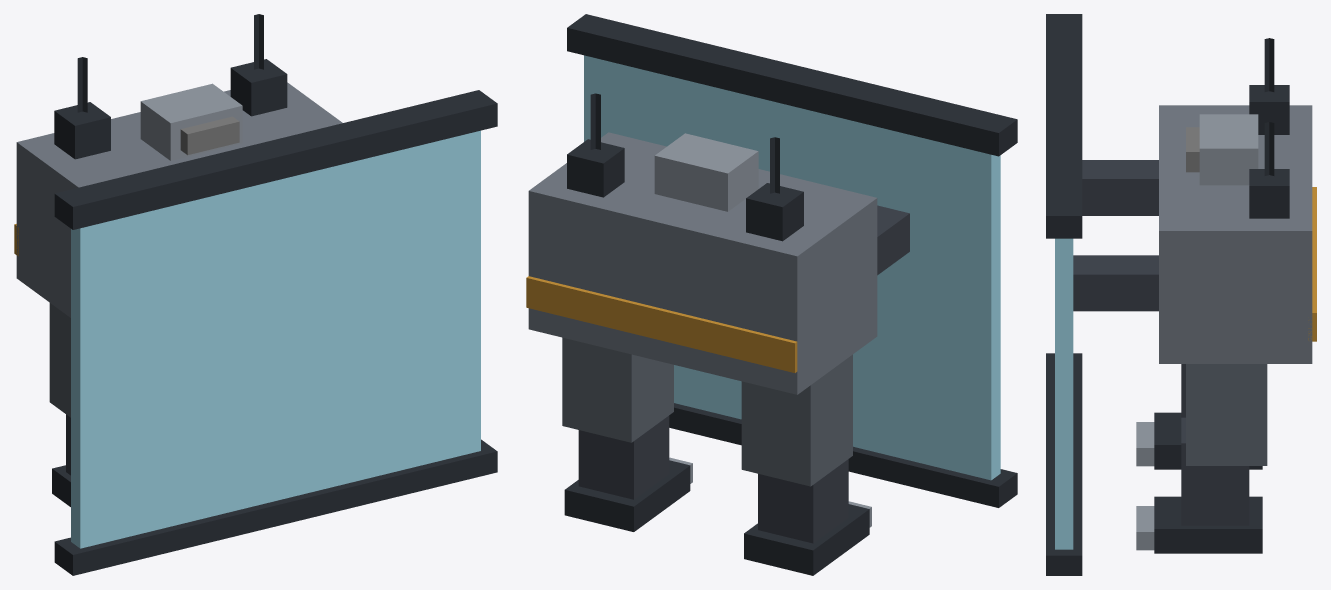
File: bulwark.obj
The picture shows the model from 3 angles, left to right: view 1: azimuth 30°, elevation 25°; view 2: azimuth 150°, elevation 25°; view 3: azimuth 270°, elevation 25°; orthographic projection. The views are drawn at different scales.
Parts seen in each view (by area): view 1: bulwark; view 2: bulwark; view 3: bulwark.
Boxes of the visible parts, x1,y1,x2,y2 form: bulwark: (14,14,497,575); bulwark: (526,14,1017,575); bulwark: (1046,14,1316,575).
Bounding box in the file's own units: 2.12 × 2.02 × 1.2.
